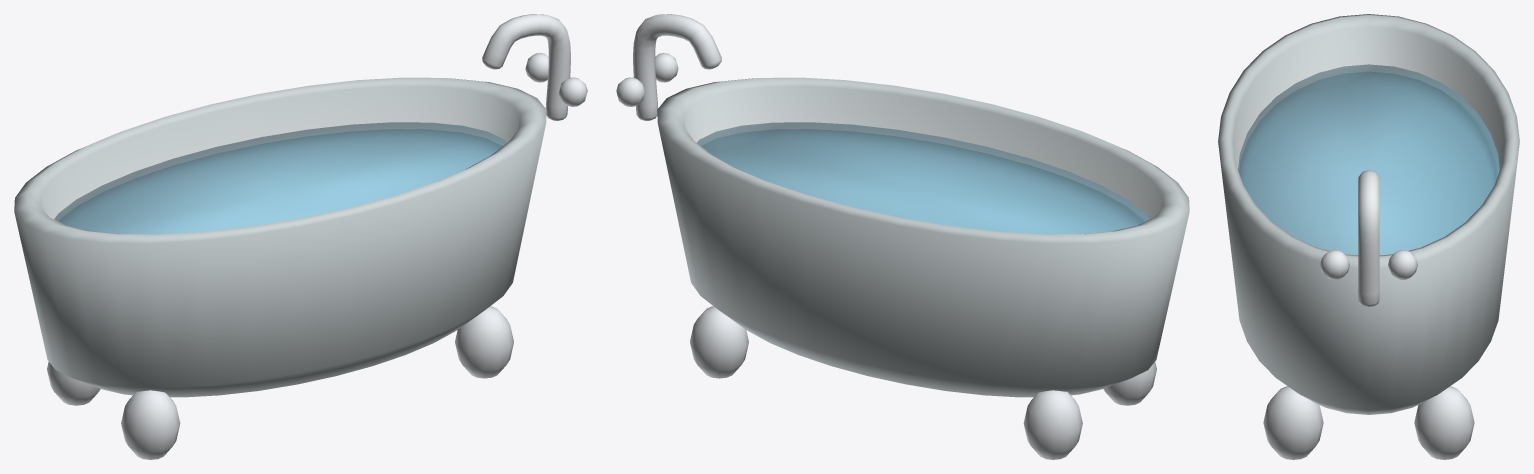
The model's file is badewanne.glb.
3 views of the same model, side by side, from view 1: azimuth 30°, elevation 25°; view 2: azimuth 150°, elevation 25°; view 3: azimuth 270°, elevation 25° (orthographic).
Visible parts, largest first — view 1: badewanne-lack, badewanne-glas, badewanne-metall; view 2: badewanne-lack, badewanne-glas, badewanne-metall; view 3: badewanne-lack, badewanne-glas, badewanne-metall.
Part boxes in pixels (x1,y1,x2,y2): badewanne-lack: (14, 77, 546, 397); badewanne-glas: (54, 122, 506, 234); badewanne-metall: (47, 14, 587, 459); badewanne-lack: (657, 77, 1189, 397); badewanne-glas: (697, 122, 1149, 234); badewanne-metall: (616, 14, 1156, 459); badewanne-lack: (1218, 14, 1519, 414); badewanne-glas: (1238, 64, 1499, 255); badewanne-metall: (1263, 170, 1474, 459).
Size of the model in its own units: 1.7 by 0.937 by 0.8.
